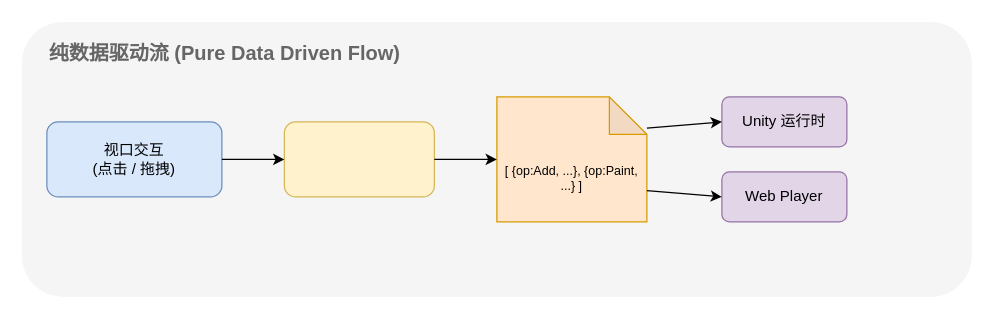
This 993x318 diagram has some shape labels left out. Each missing label, with the box of its shape:
cmds_json (参数): (496, 96, 647, 222)
命令录制器: (283, 121, 434, 197)
